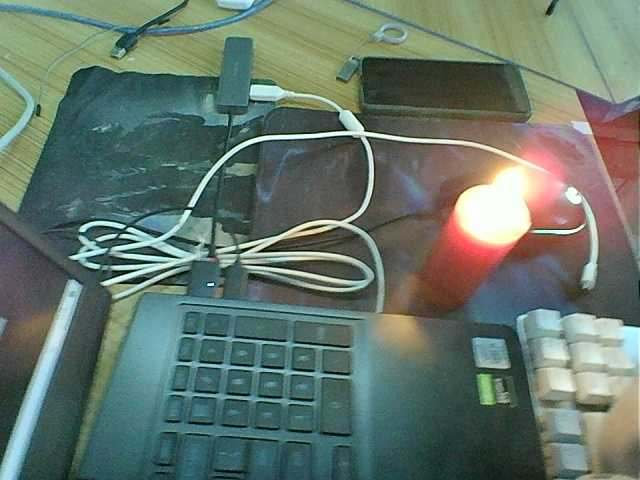candle: (414, 194, 525, 324)
fire: (457, 165, 537, 241)
